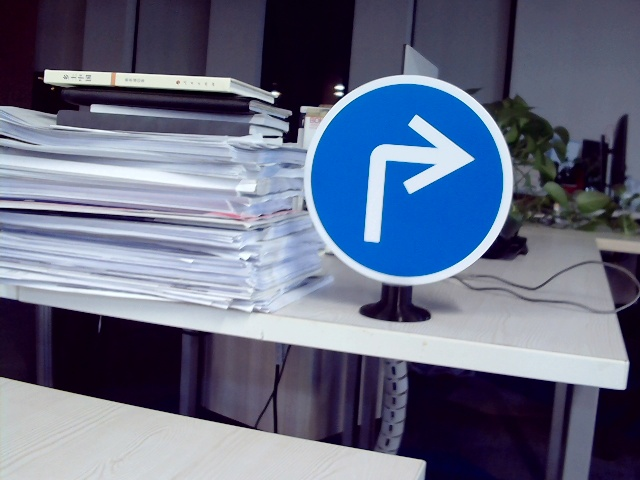turn_right: (351, 111, 478, 244)
